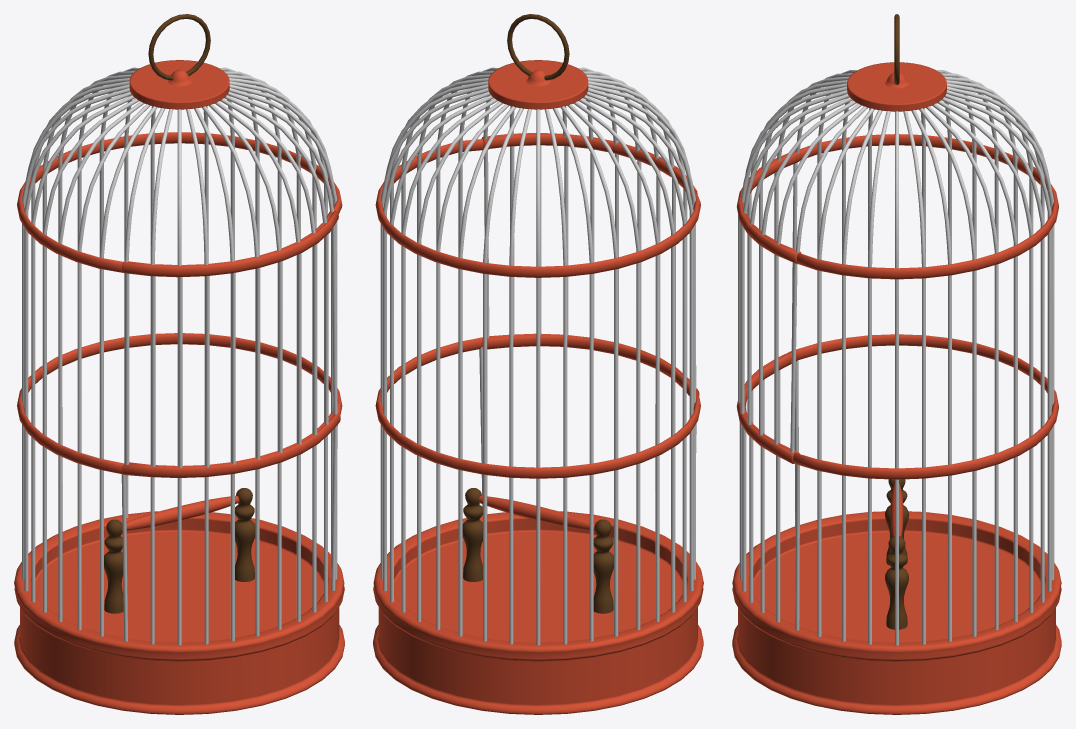
Rendered from OwlCage1.fbx.
3 views of the same model, side by side, from view 1: azimuth 30°, elevation 25°; view 2: azimuth 150°, elevation 25°; view 3: azimuth 270°, elevation 25° (orthographic).
Visible parts, largest first — view 1: Birdcage_LOD0, Door, Handle; view 2: Birdcage_LOD0, Door, Handle; view 3: Birdcage_LOD0, Door.
Part boxes in pixels (box(x1,y1,x2,y2)): Birdcage_LOD0: box(14, 60, 344, 714); Door: box(122, 210, 340, 477); Handle: box(148, 14, 210, 80); Birdcage_LOD0: box(373, 60, 703, 714); Door: box(481, 133, 699, 395); Handle: box(507, 14, 569, 80); Birdcage_LOD0: box(732, 62, 1061, 714); Door: box(736, 150, 798, 463).
Size of what is drawn, in the model's own units: 107 by 225 by 107.
